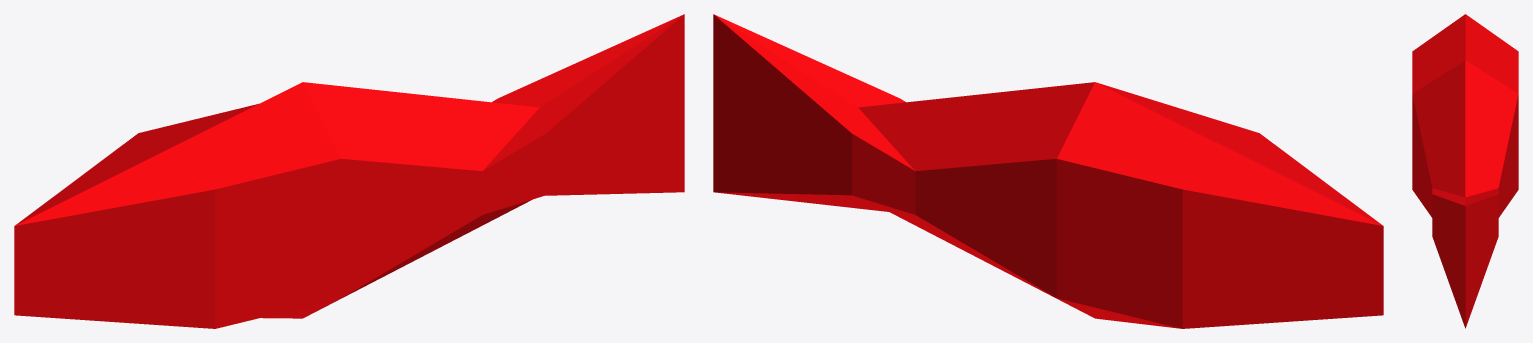
The model's file is fish.glb.
3 renders of one model, left to right at view 1: azimuth 30°, elevation 25°; view 2: azimuth 150°, elevation 25°; view 3: azimuth 270°, elevation 25°, orthographic. The views are drawn at different scales.
Visible parts, largest first — view 1: Cube; view 2: Cube; view 3: Cube.
Boxes of the visible parts, left/top/right/bottom form: Cube: left=14, top=14, right=684, bottom=328; Cube: left=713, top=14, right=1383, bottom=328; Cube: left=1412, top=14, right=1518, bottom=328.
Bounding box in the file's own units: 5.93 × 2 × 1.18.
